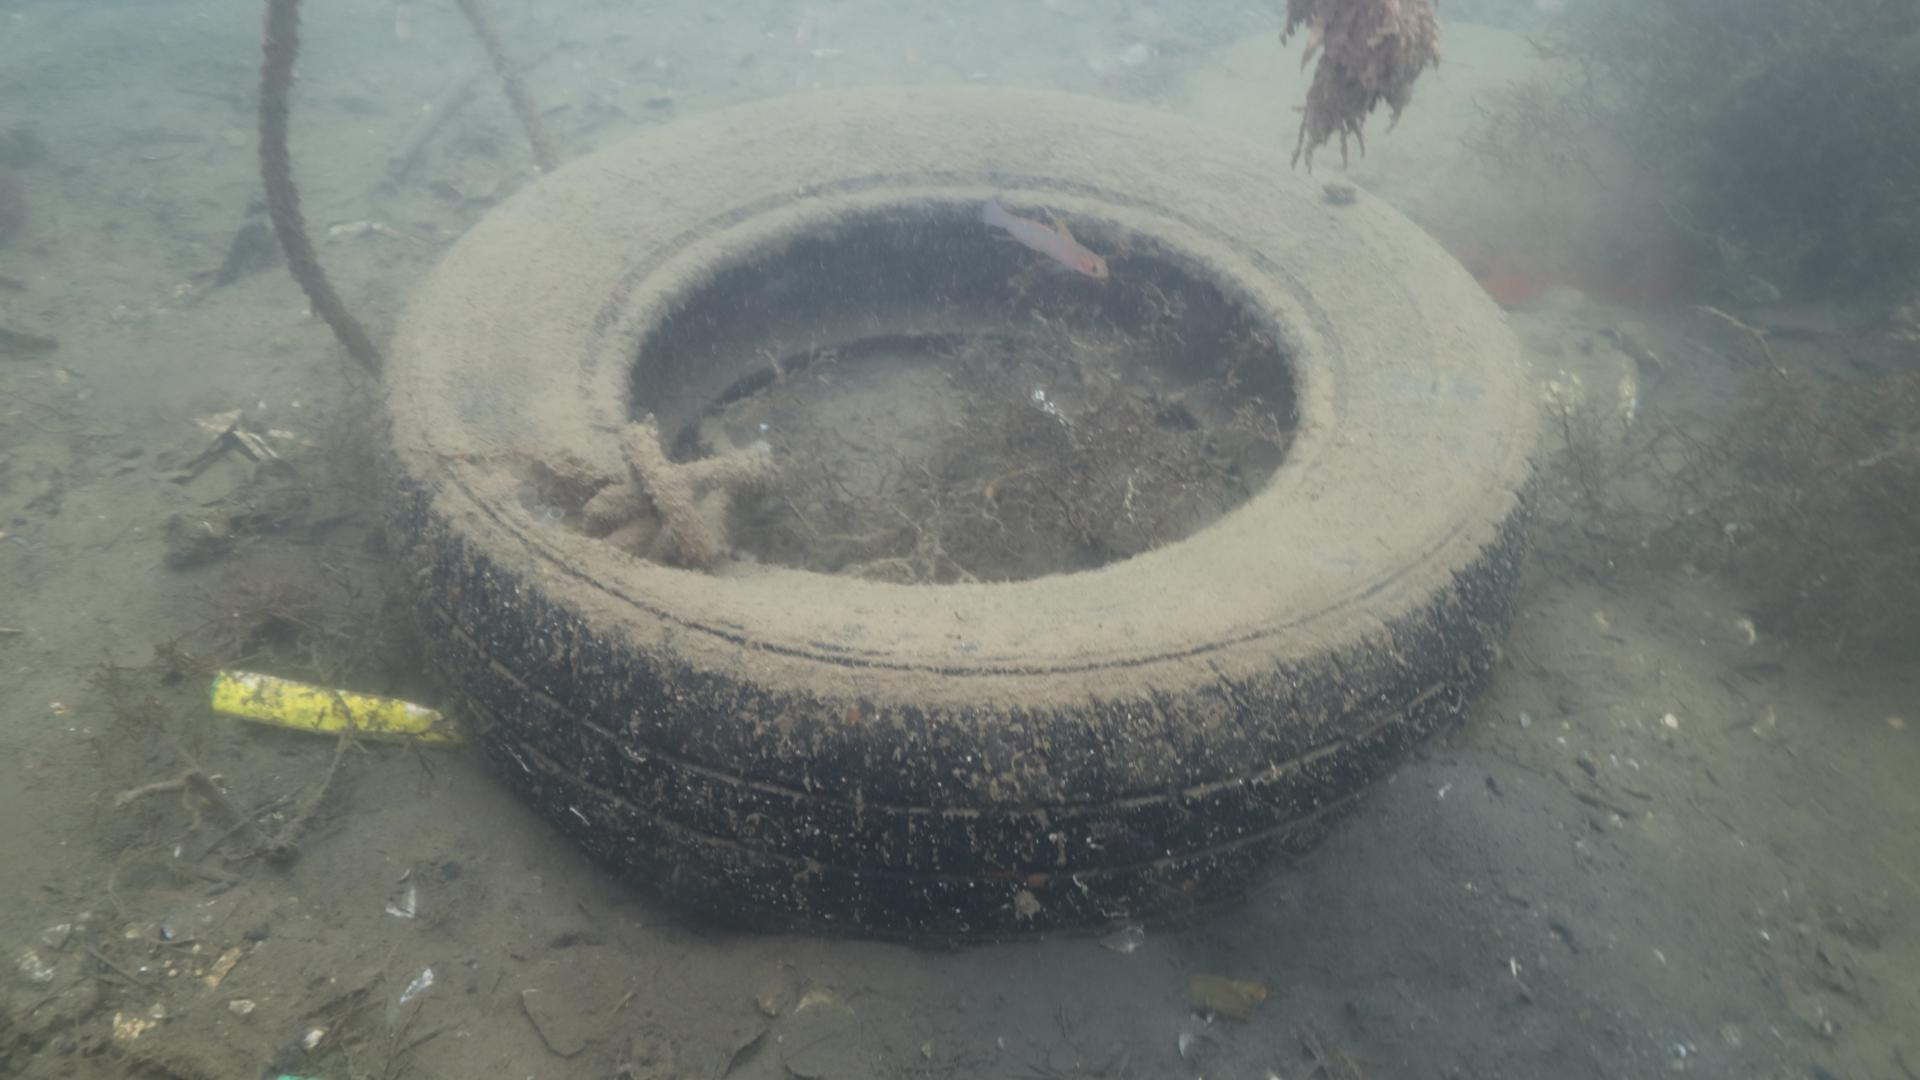bundle of ropes: (579, 422, 781, 570)
tire: (368, 80, 1544, 945)
